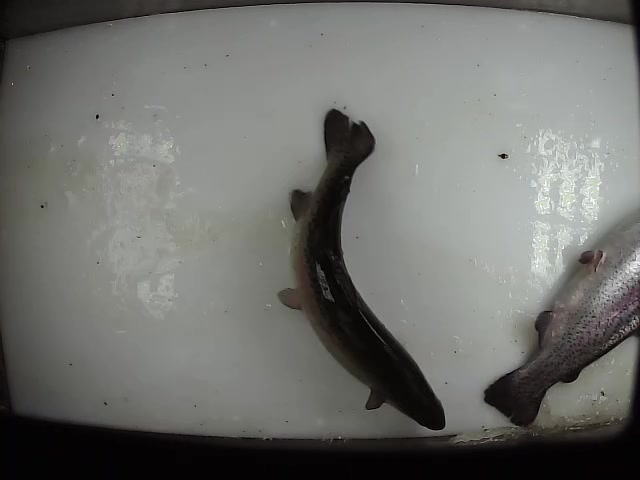fish: (276, 104, 447, 432), (483, 202, 640, 429)
